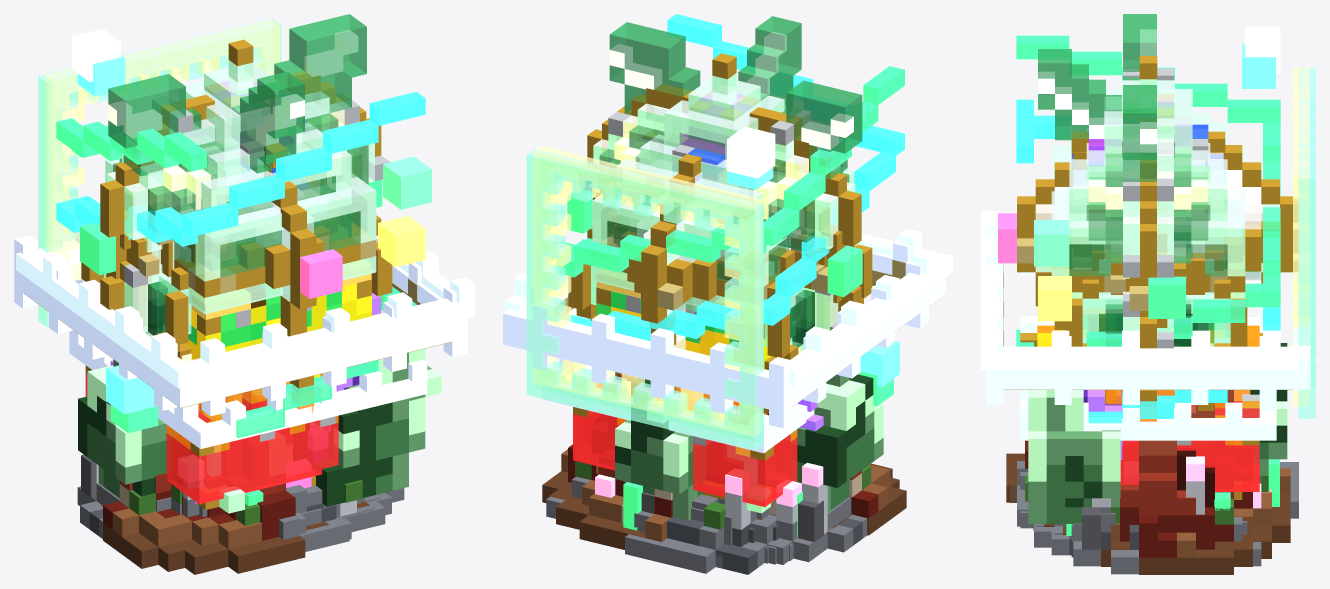
File: Gemas_Zona1.fbx
3 views of the same model, side by side, from view 1: azimuth 30°, elevation 25°; view 2: azimuth 150°, elevation 25°; view 3: azimuth 270°, elevation 25° (orthographic). The views are drawn at different scales.
Visible parts, largest first — view 1: AuroraVerde__Anillo, AuroraVerde__Faceta, SemilladelMundo__Hoja, JadeArcoiris__Anillo, AuroraVerde__Halo, SemilladelMundo__Halo, AuroraVerde__CintaCeleste, JadeArcoiris__Rojo, AuroraVerde__CintaVerde, TreboldeCristal__Anillo, DiamanteFloral__Oro, Jaspe__TierraOscura (+42 smaller); view 2: AuroraVerde__Halo, SemilladelMundo__Halo, JadeArcoiris__Anillo, SemilladelMundo__Hoja, AuroraVerde__Faceta, AuroraVerde__CintaCeleste, AuroraVerde__CintaVerde, AuroraVerde__Anillo, DiamanteFloral__Roca, DiamanteFloral__Oro, JadeArcoiris__Rojo, TreboldeCristal__Oro (+40 smaller); view 3: AuroraVerde__Faceta, AuroraVerde__Anillo, AuroraVerde__CintaVerde, JadeArcoiris__Anillo, SemilladelMundo__Hoja, DiamanteFloral__Oro, TreboldeCristal__Anillo, AuroraVerde__Halo, Jaspe__TierraOscura, SemilladelMundo__Halo, TreboldeCristal__VerdeClaro, AgataMusgosa__Medio (+45 smaller).
Boxes of the visible parts, x1,y1,x2,y2 form: AuroraVerde__Anillo: (16,250,474,388); AuroraVerde__Faceta: (105,60,376,314); SemilladelMundo__Hoja: (108,14,366,176); JadeArcoiris__Anillo: (14,232,467,416); AuroraVerde__Halo: (38,19,281,327); SemilladelMundo__Halo: (45,20,279,313); AuroraVerde__CintaCeleste: (56,92,425,246); JadeArcoiris__Rojo: (85,374,338,504); AuroraVerde__CintaVerde: (56,118,416,437); TreboldeCristal__Anillo: (69,330,427,449); DiamanteFloral__Oro: (106,163,330,336); Jaspe__TierraOscura: (100,501,369,574); AuroraVerde__Halo: (526,149,763,450); SemilladelMundo__Halo: (533,146,762,436); JadeArcoiris__Anillo: (503,240,945,428); SemilladelMundo__Hoja: (609,16,862,179); AuroraVerde__Faceta: (592,73,856,308); AuroraVerde__CintaCeleste: (563,14,904,341); AuroraVerde__CintaVerde: (551,66,904,277); AuroraVerde__Anillo: (504,228,952,387); DiamanteFloral__Roca: (546,476,867,573); DiamanteFloral__Oro: (593,130,846,345); JadeArcoiris__Rojo: (573,378,797,506); TreboldeCristal__Oro: (587,84,861,311); AuroraVerde__Faceta: (1051,79,1245,307); AuroraVerde__Anillo: (981,196,1298,369); AuroraVerde__CintaVerde: (1016,35,1280,346); JadeArcoiris__Anillo: (986,226,1310,404); SemilladelMundo__Hoja: (1038,14,1156,181); DiamanteFloral__Oro: (1017,145,1297,327); TreboldeCristal__Anillo: (1020,307,1276,440); AuroraVerde__Halo: (1298,67,1315,418); Jaspe__TierraOscura: (1006,453,1290,574); SemilladelMundo__Halo: (1293,67,1309,406); TreboldeCristal__VerdeClaro: (1088,153,1208,263); AgataMusgosa__Medio: (1028,397,1287,523).
Size of the model in its own units: 0.95 by 1.4 by 0.95.
